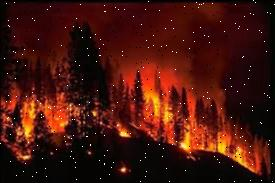fire: (130, 90, 271, 178), (0, 71, 127, 164)
